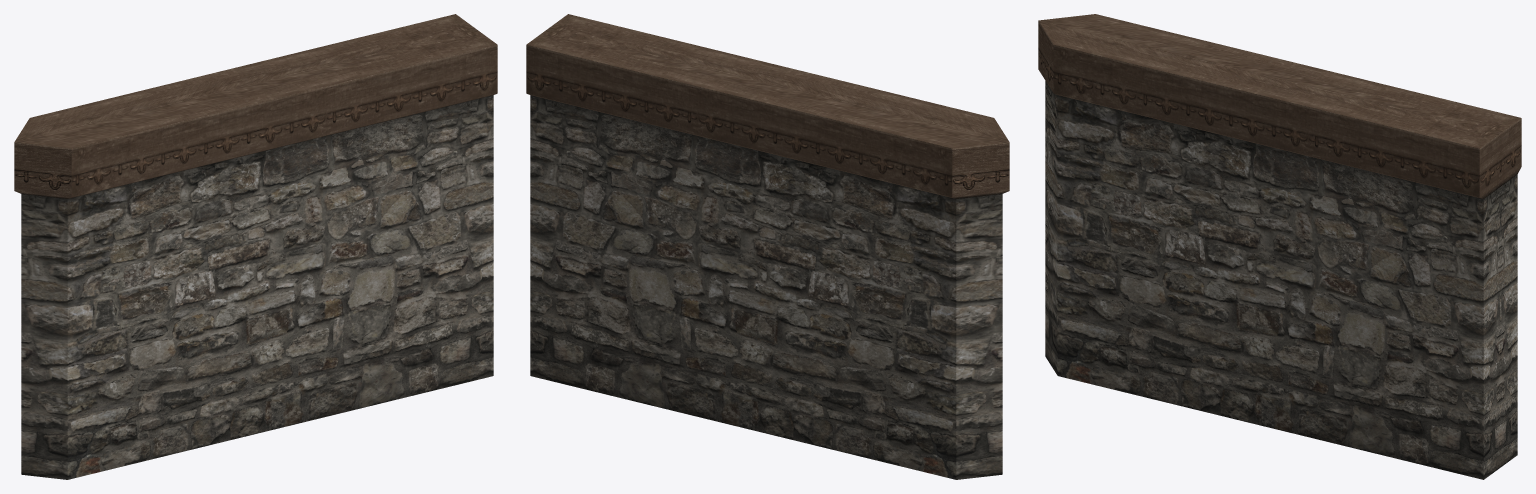
Rendered from House_Stone_Wall_Upper.dae.
The picture shows the model from 3 angles, left to right: view 1: azimuth 30°, elevation 25°; view 2: azimuth 150°, elevation 25°; view 3: azimuth 330°, elevation 25°; orthographic projection.
Parts seen in each view (by area): view 1: House_Stone_Wall_Upper; view 2: House_Stone_Wall_Upper; view 3: House_Stone_Wall_Upper.
Part boxes in pixels (left/top/right/bottom): House_Stone_Wall_Upper: left=14, top=14, right=497, bottom=479; House_Stone_Wall_Upper: left=526, top=14, right=1009, bottom=479; House_Stone_Wall_Upper: left=1038, top=14, right=1521, bottom=479.
Bounding box in the file's own units: 4.34 × 3.06 × 0.68.
1 material, 1 textured.
